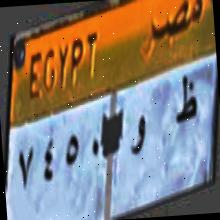0: (86, 127, 102, 168)
4: (39, 138, 59, 189)
5: (62, 129, 82, 172)
7: (18, 142, 38, 197)
Thaa: (172, 68, 202, 132)
waw: (127, 111, 150, 160)
